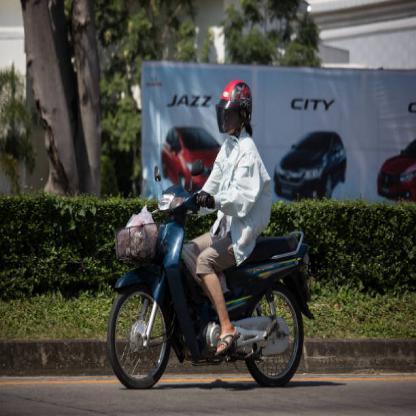Motorcycle: (107, 175, 309, 397)
